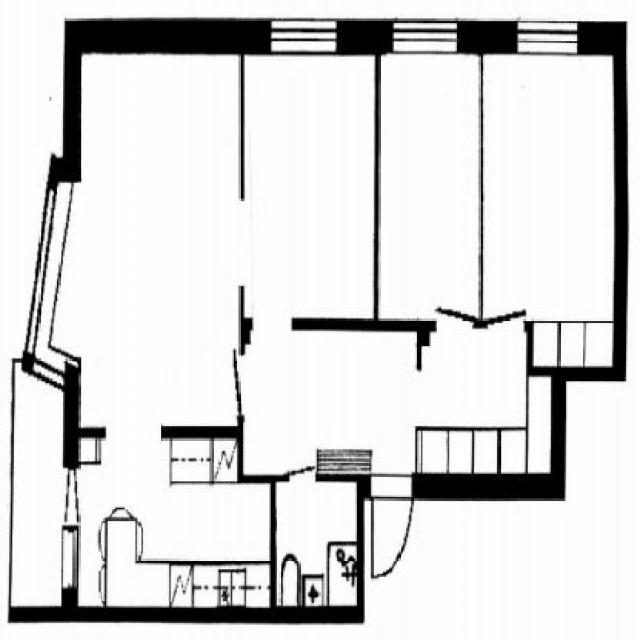door: (54, 49, 245, 431), (483, 46, 614, 369), (243, 48, 377, 322), (77, 434, 269, 608), (380, 49, 482, 322), (246, 322, 423, 466), (423, 323, 555, 485), (14, 360, 72, 606), (275, 482, 357, 604), (371, 474, 415, 584), (431, 303, 478, 337), (230, 348, 248, 428), (274, 456, 315, 484), (63, 470, 82, 528), (483, 306, 528, 329)
zone: (271, 20, 337, 55), (518, 20, 578, 57), (392, 22, 456, 52)
